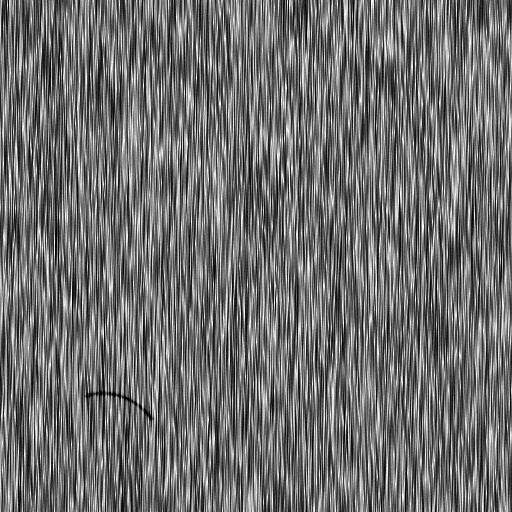scratch: (81, 384, 160, 426)
